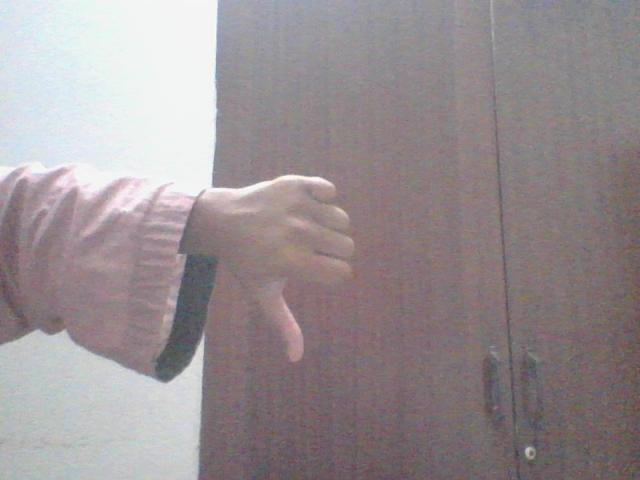thumbs-down: (236, 176, 369, 376)
